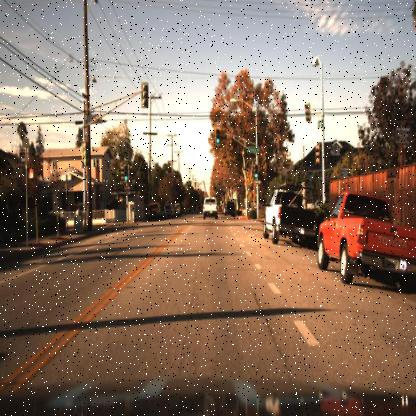car: (317, 191, 415, 288), (256, 180, 317, 250), (200, 186, 221, 224), (145, 202, 162, 223), (174, 199, 182, 220), (167, 200, 176, 218), (162, 202, 170, 220)
trafficLight-Green: (214, 131, 223, 149), (252, 163, 260, 183), (252, 170, 260, 183), (122, 173, 127, 188)
